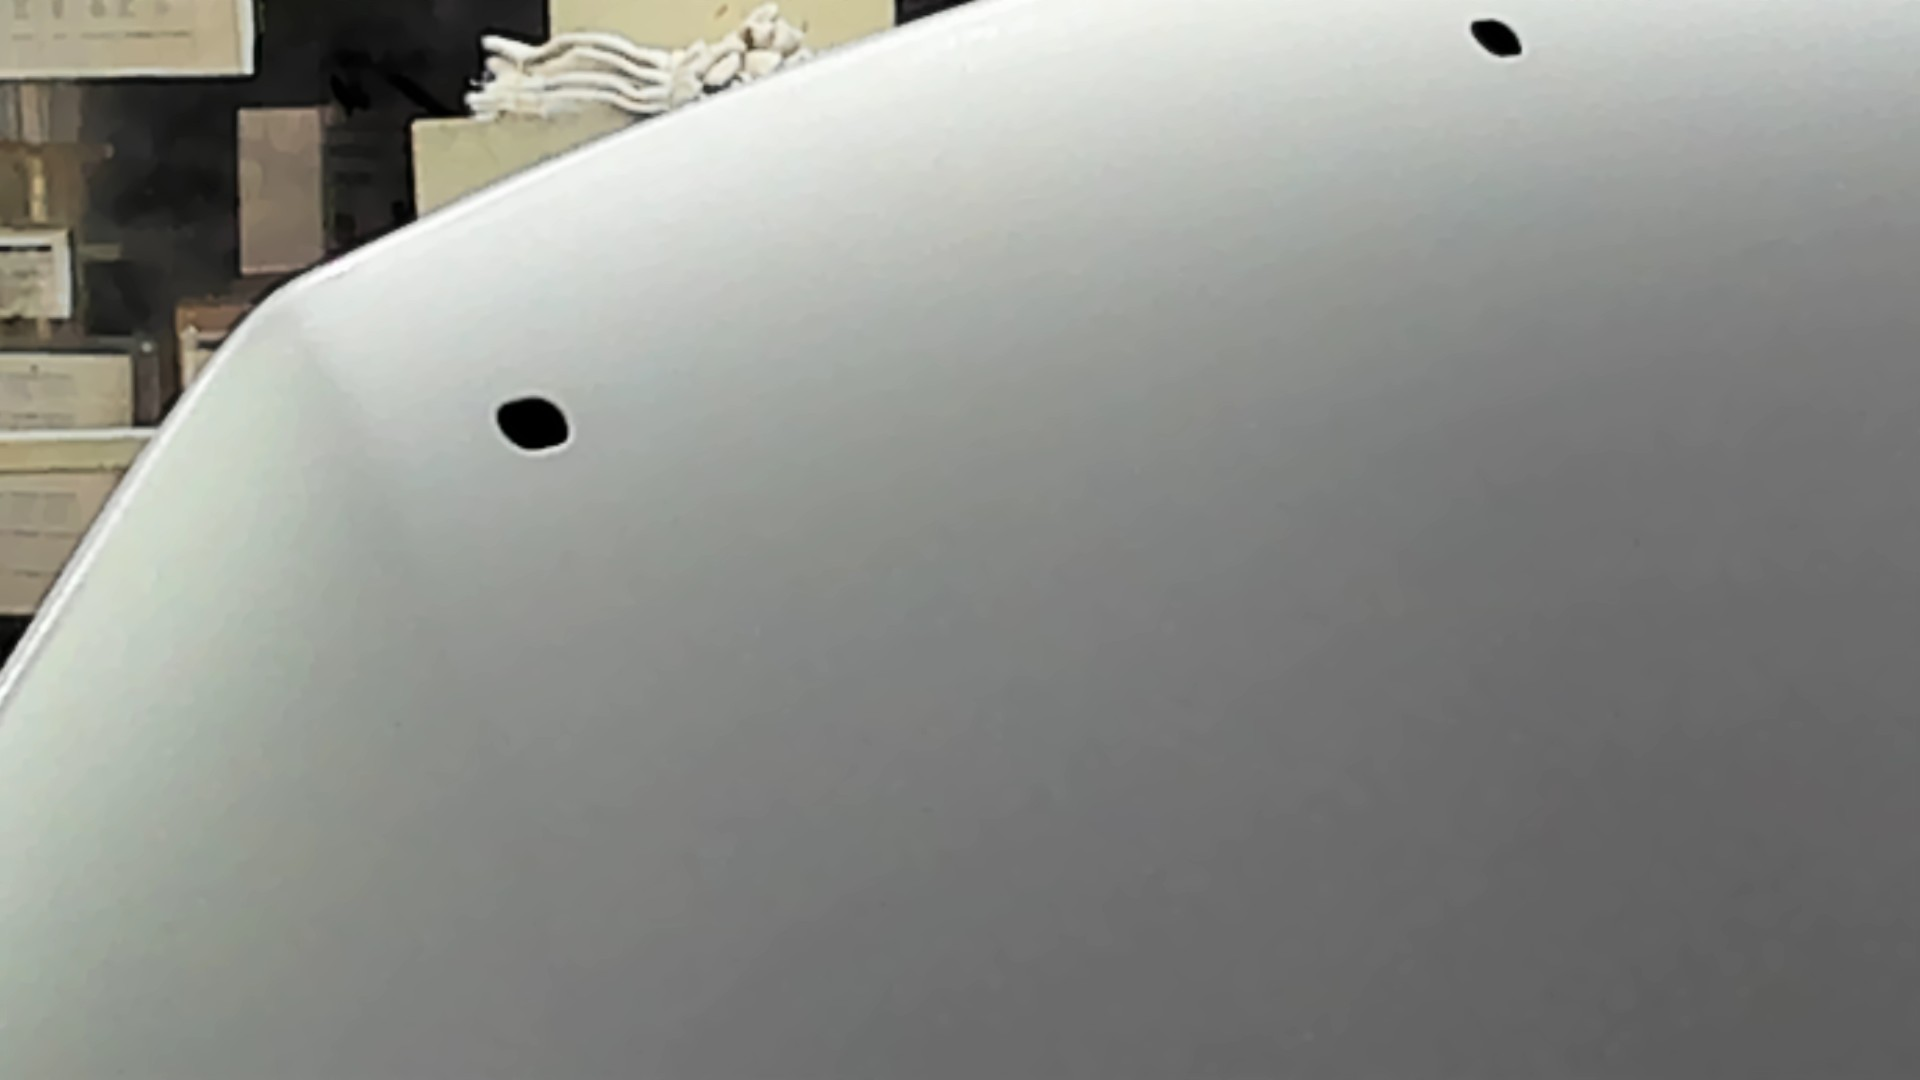amorfo: (488, 392, 579, 456), (1465, 15, 1528, 65)
